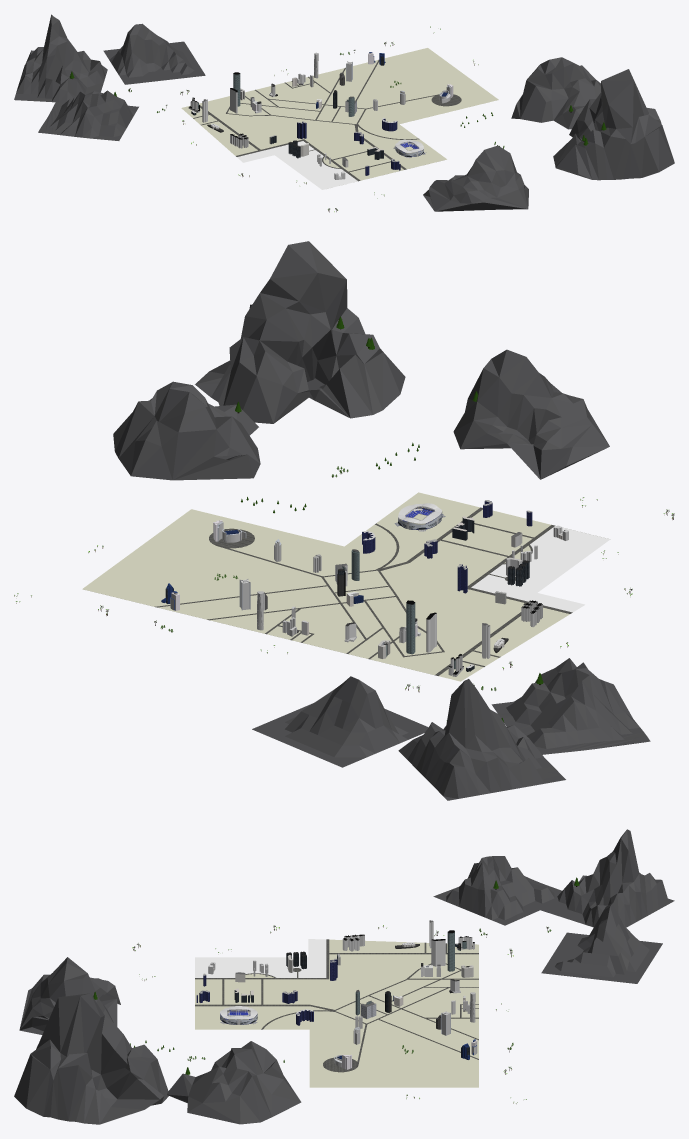
Rendered from cidade.obj.
3 renders of one model, top to bottom at view 1: azimuth 30°, elevation 25°; view 2: azimuth 150°, elevation 25°; view 3: azimuth 270°, elevation 25°, orthographic. The views are drawn at different scales.
Parts seen in each view (by area): view 1: Mesh1 Group2 Group1 Model, Mesh158 Group172 skpE363_1 Model, Mesh210 Group172 skpE363_1 Model, Mesh1071 Group187 Group186 Group185 skpE363_1 Model, Mesh209 Group172 skpE363_1 Model, Mesh1073 Group187 Group186 Group185 skpE363_1 Model, Mesh1072 Group187 Group186 Group185 skpE363_1 Model, Mesh35 Group37 Group3 Model; view 2: Mesh1 Group2 Group1 Model, Mesh158 Group172 skpE363_1 Model, Mesh210 Group172 skpE363_1 Model, Mesh209 Group172 skpE363_1 Model, Mesh1071 Group187 Group186 Group185 skpE363_1 Model, Mesh1072 Group187 Group186 Group185 skpE363_1 Model, Mesh1073 Group187 Group186 Group185 skpE363_1 Model, Mesh35 Group37 Group3 Model; view 3: Mesh1 Group2 Group1 Model, Mesh158 Group172 skpE363_1 Model, Mesh209 Group172 skpE363_1 Model, Mesh1071 Group187 Group186 Group185 skpE363_1 Model, Mesh1073 Group187 Group186 Group185 skpE363_1 Model, Mesh1072 Group187 Group186 Group185 skpE363_1 Model, Mesh210 Group172 skpE363_1 Model, Mesh35 Group37 Group3 Model.
Part boxes in pixels (x1,y1,x2,y2): Mesh1 Group2 Group1 Model: (181,48,498,189); Mesh158 Group172 skpE363_1 Model: (553,69,674,180); Mesh210 Group172 skpE363_1 Model: (423,145,528,211); Mesh1071 Group187 Group186 Group185 skpE363_1 Model: (14,14,107,102); Mesh209 Group172 skpE363_1 Model: (511,57,600,129); Mesh1073 Group187 Group186 Group185 skpE363_1 Model: (103,23,205,84); Mesh1072 Group187 Group186 Group185 skpE363_1 Model: (38,90,138,140); Mesh35 Group37 Group3 Model: (393,139,425,158); Mesh1 Group2 Group1 Model: (82,492,610,681); Mesh158 Group172 skpE363_1 Model: (195,241,405,423); Mesh210 Group172 skpE363_1 Model: (453,349,609,479); Mesh209 Group172 skpE363_1 Model: (113,381,260,480); Mesh1071 Group187 Group186 Group185 skpE363_1 Model: (398,679,565,800); Mesh1072 Group187 Group186 Group185 skpE363_1 Model: (491,658,650,754); Mesh1073 Group187 Group186 Group185 skpE363_1 Model: (252,676,428,767); Mesh35 Group37 Group3 Model: (395,503,445,531); Mesh1 Group2 Group1 Model: (195,939,478,1087); Mesh158 Group172 skpE363_1 Model: (14,993,168,1124); Mesh209 Group172 skpE363_1 Model: (167,1041,301,1124); Mesh1071 Group187 Group186 Group185 skpE363_1 Model: (535,829,674,927); Mesh1073 Group187 Group186 Group185 skpE363_1 Model: (541,903,662,983); Mesh1072 Group187 Group186 Group185 skpE363_1 Model: (433,856,561,925); Mesh210 Group172 skpE363_1 Model: (19,957,120,1034); Mesh35 Group37 Group3 Model: (220,1006,257,1024).
Bounding box in the file's own units: 3807 × 761 × 3981.
